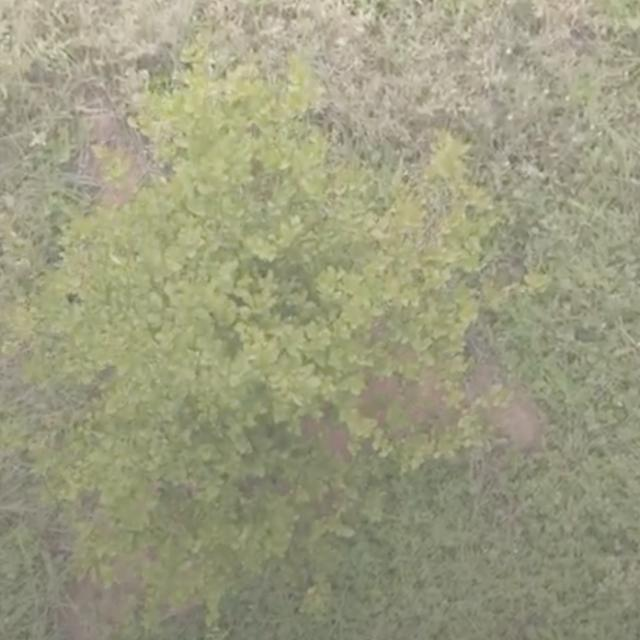notMangoTree: (0, 52, 513, 640)
